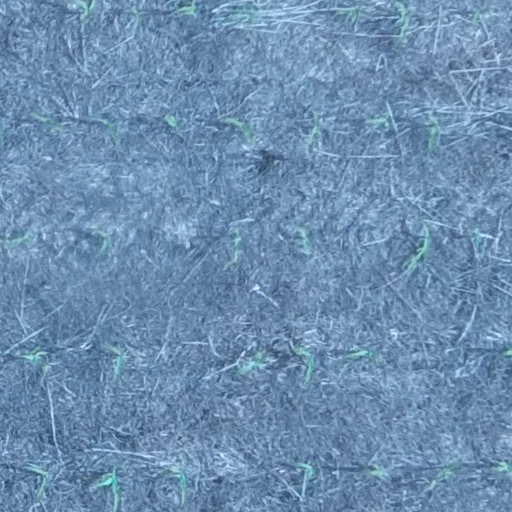planta: (400, 218, 432, 276), (219, 113, 259, 148), (290, 342, 319, 387), (25, 458, 53, 502), (232, 345, 269, 378), (421, 109, 445, 157), (103, 341, 130, 383), (91, 110, 123, 145), (166, 462, 193, 502), (301, 110, 326, 149), (1, 225, 36, 252), (342, 343, 381, 367), (19, 344, 50, 374), (362, 108, 396, 134), (431, 455, 462, 483), (291, 219, 315, 255), (226, 224, 247, 264), (28, 107, 62, 131), (92, 227, 115, 262), (293, 458, 319, 488), (161, 110, 185, 136), (126, 3, 146, 33), (334, 4, 364, 23), (467, 225, 486, 250), (362, 461, 387, 479), (469, 9, 484, 23)
